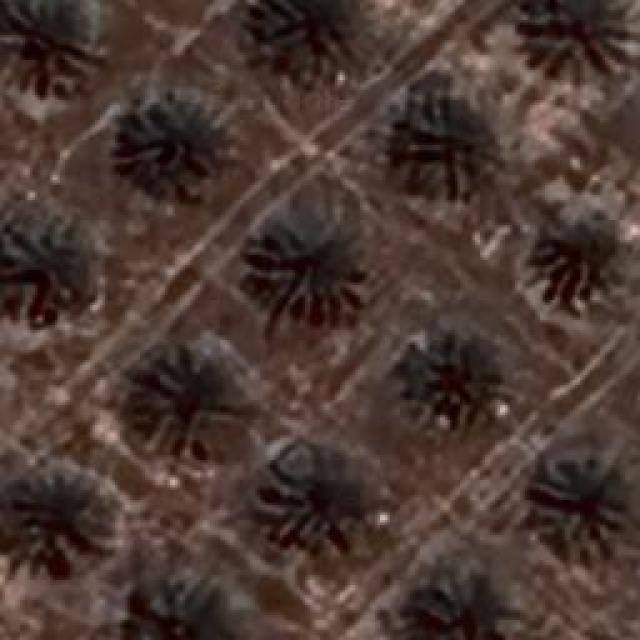PalmTree: (250, 212, 355, 312), (120, 90, 215, 195), (135, 358, 230, 458), (535, 457, 630, 555), (0, 217, 92, 317), (268, 440, 364, 535), (10, 470, 110, 560), (404, 95, 498, 190), (522, 0, 636, 78), (2, 0, 90, 95), (542, 208, 626, 304), (415, 565, 513, 640), (418, 327, 500, 415), (125, 574, 233, 638), (260, 0, 360, 55)
